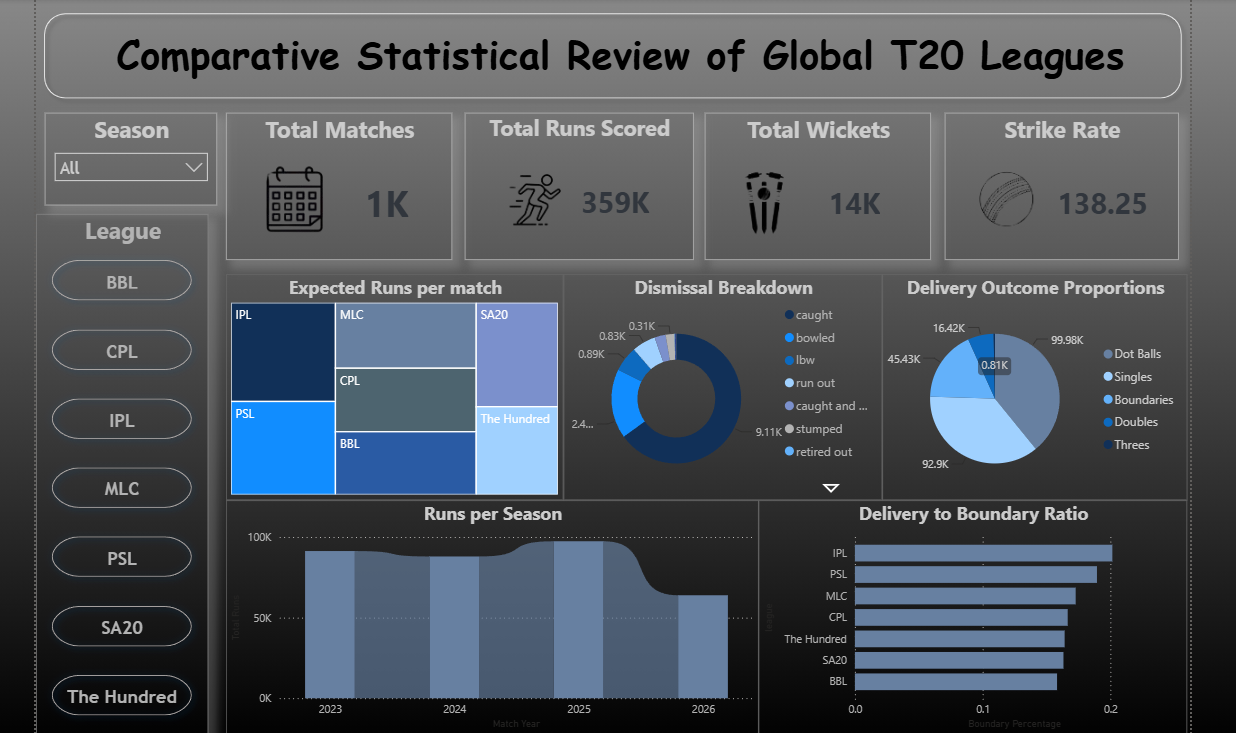

This screenshot's page, from the dashboard's own definition file:
{"tool":"powerbi","page":{"name":"Page 1","canvas":[1285,820],"ordinal":0},"visuals":[{"type":"cardVisual","title":"Total Matches","fields":{"Data":["public matches.Total Matches"]},"box":[211.7,126.7,252.1,164.3],"z":0},{"type":"advancedSlicerVisual","title":"League","fields":{"Values":["public matches.league"]},"box":[9.7,239.5,192.2,580.7],"z":1000},{"type":"cardVisual","title":"Total Wickets","fields":{"Data":["public deliveries.Wickets Taken"]},"box":[745.1,126.7,252.1,164.3],"z":2000},{"type":"slicer","title":"Season","fields":{"Values":["public matches.Match Year"]},"box":[9.7,126.7,192.2,103.1],"z":3000},{"type":"cardVisual","title":"Total Runs Scored","fields":{"Data":["Sum(public deliveries.runs_total)"]},"box":[477.7,126.7,254.9,164.3],"z":4000},{"type":"treemap","title":"Expected Runs per match","fields":{"Group":["public matches.league"],"Values":["public deliveries.Average Runs per match"]},"box":[211.7,306.4,376,252.1],"z":5000},{"type":"ribbonChart","title":"Runs per Season","fields":{"Category":["public matches.Match Year"],"Y":["public deliveries.Total Runs"]},"box":[211.7,558.5,593.3,261.8],"z":6000},{"type":"donutChart","title":"Dismissal Breakdown","fields":{"Y":["CountNonNull(public deliveries.dismissal_kind)"],"Category":["public deliveries.dismissal_kind"]},"box":[587.7,306.4,355.1,252.1],"z":7000},{"type":"pieChart","title":"Delivery Outcome Proportions","fields":{"Category":["public deliveries.Run_category"],"Y":["CountNonNull(public deliveries.Run_category)"]},"box":[942.8,306.4,339.8,252.1],"z":8000},{"type":"clusteredBarChart","title":"Delivery to Boundary Ratio","fields":{"Y":["public matches.Boundary Percentage"],"Category":["public matches.league"]},"box":[805,558.5,477.7,261.8],"z":9000},{"type":"shape","box":[0,7,1285.4,112.8],"z":10000},{"type":"textbox","box":[20.9,26.5,1242.3,85],"z":11000},{"type":"cardVisual","title":"Strike Rate","fields":{"Data":["public deliveries.Strike Rate"]},"box":[1012.5,126.7,260.4,164.3],"z":12000}]}

Visuals, with their boxes on the page's 1285x820 design canvas (x1, y1, x2, y2). These are canvas units, not pixel positions in the 1236x733 screenshot, which may show the page scaled, cropped or inside an application window:
"Total Matches" cardVisual: locate(212, 127, 464, 291)
"League" advancedSlicerVisual: locate(10, 240, 202, 820)
"Total Wickets" cardVisual: locate(745, 127, 997, 291)
"Season" slicer: locate(10, 127, 202, 230)
"Total Runs Scored" cardVisual: locate(478, 127, 733, 291)
"Expected Runs per match" treemap: locate(212, 306, 588, 558)
"Runs per Season" ribbonChart: locate(212, 558, 805, 820)
"Dismissal Breakdown" donutChart: locate(588, 306, 943, 558)
"Delivery Outcome Proportions" pieChart: locate(943, 306, 1283, 558)
"Delivery to Boundary Ratio" clusteredBarChart: locate(805, 558, 1283, 820)
shape: locate(0, 7, 1285, 120)
textbox: locate(21, 26, 1263, 112)
"Strike Rate" cardVisual: locate(1012, 127, 1273, 291)
